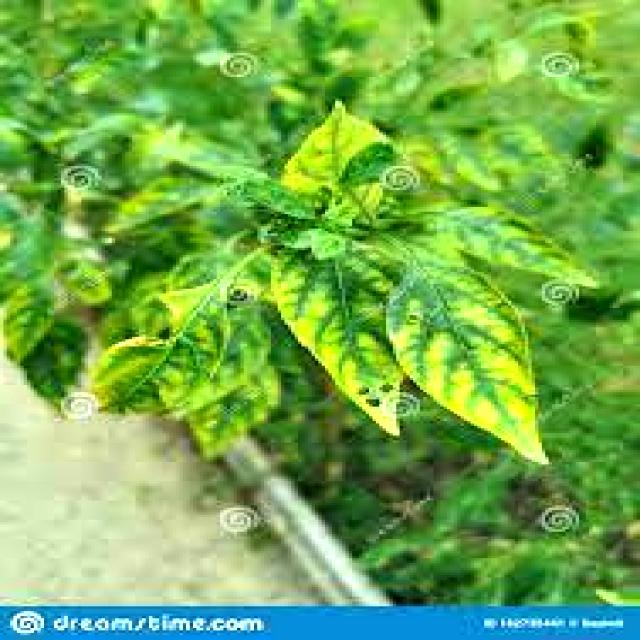yellowish leaf: (255, 233, 584, 476), (224, 103, 418, 227)
